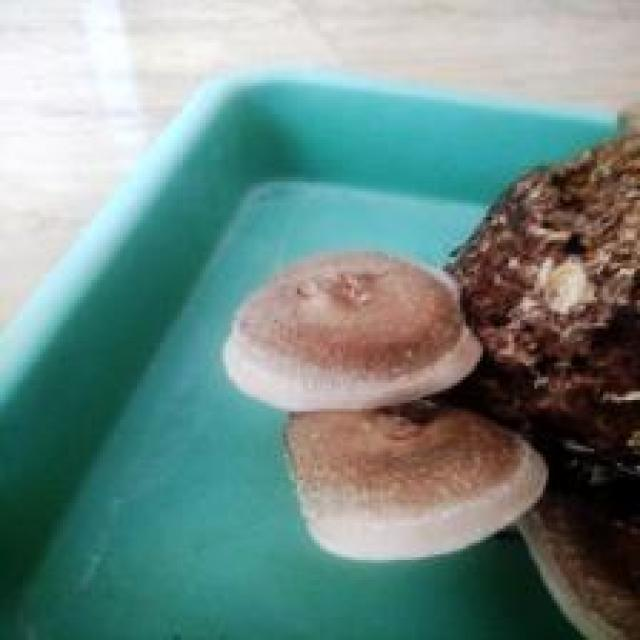death-cap: (220, 246, 483, 411)
